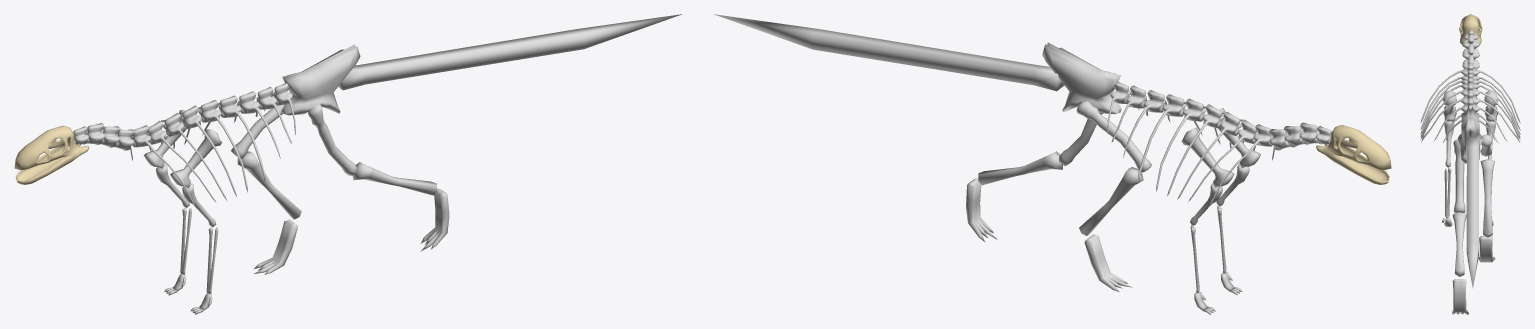
The model's file is sacissauro3.fbx.
3 views of the same model, side by side, from view 1: azimuth 30°, elevation 25°; view 2: azimuth 150°, elevation 25°; view 3: azimuth 270°, elevation 25° (orthographic). The views are drawn at different scales.
Parts seen in each view (by area): view 1: Cube.014, low_spine.001, Plane, Head, low_neckbone, Cube.005, Cube.007, Cube.003, Cube.004, Cube.006, Cube, Cube.008 (+1 smaller); view 2: Cube.014, low_spine.001, Plane, Head, low_neckbone, Cube.008, Cube.005, Cube.003, Cube.004, Cube.006, Cube.009, Cube.007 (+1 smaller); view 3: low_spine.001, Cube.014, Plane, Cube.003, Cube.007, Cube.005, low_neckbone, Cube.006, Head, Cube.004, Cube, Cube.009 (+4 smaller).
Part boxes in pixels (x1,y1,x2,y2): Cube.014: (338,14,682,90); low_spine.001: (130,83,295,208); Plane: (281,44,360,115); Head: (14,125,89,184); low_neckbone: (73,123,134,150); Cube.005: (352,162,437,195); Cube.007: (308,104,357,175); Cube.003: (237,151,301,219); Cube.004: (253,219,297,274); Cube.006: (420,188,449,251); Cube: (170,129,222,187); Cube.008: (231,92,292,158); Cube.014: (713,14,1064,91); low_spine.001: (1107,81,1274,207); Plane: (1042,42,1121,114); Head: (1316,125,1391,184); low_neckbone: (1269,122,1331,150); Cube.008: (1076,101,1151,172); Cube.005: (978,151,1062,185); Cube.003: (1079,167,1143,235); Cube.004: (1084,234,1132,291); Cube.006: (966,178,997,241); Cube.009: (1181,127,1234,187); Cube.007: (1059,113,1103,166); low_spine.001: (1420,63,1520,143); Cube.014: (1466,135,1479,288); Plane: (1458,107,1482,163); Cube.003: (1480,159,1494,237); Cube.007: (1453,139,1465,212); Cube.005: (1452,212,1466,277); low_neckbone: (1462,29,1479,68); Cube.006: (1452,279,1468,314); Head: (1459,14,1482,46); Cube.004: (1478,236,1495,262); Cube: (1443,90,1456,121); Cube.009: (1484,90,1498,121).
Size of the model in its own units: 642 by 197 by 106.
